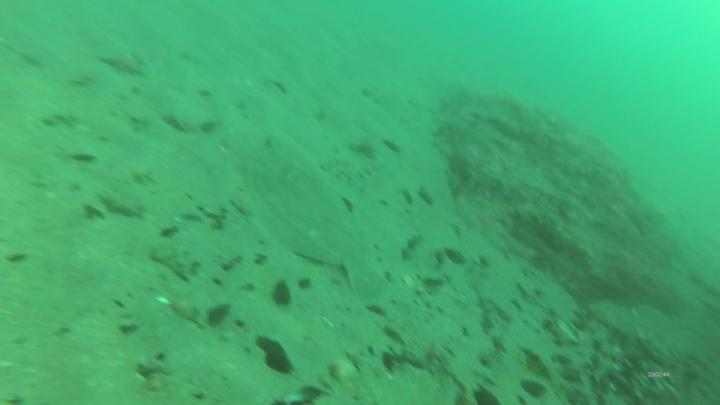starfish: (98, 51, 144, 76)
